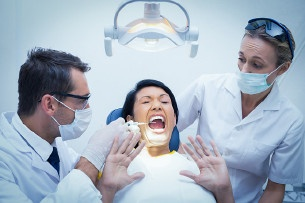Mask: (233, 48, 278, 93)
